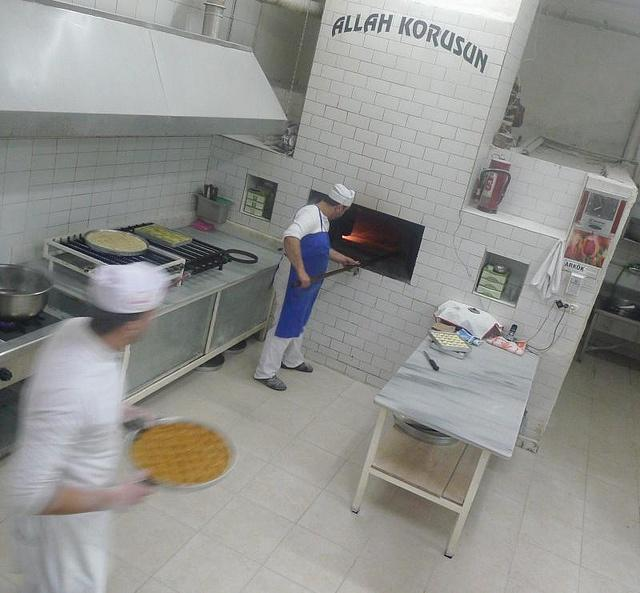APAR: (475, 153, 511, 213)
Meja: (350, 323, 540, 559)
